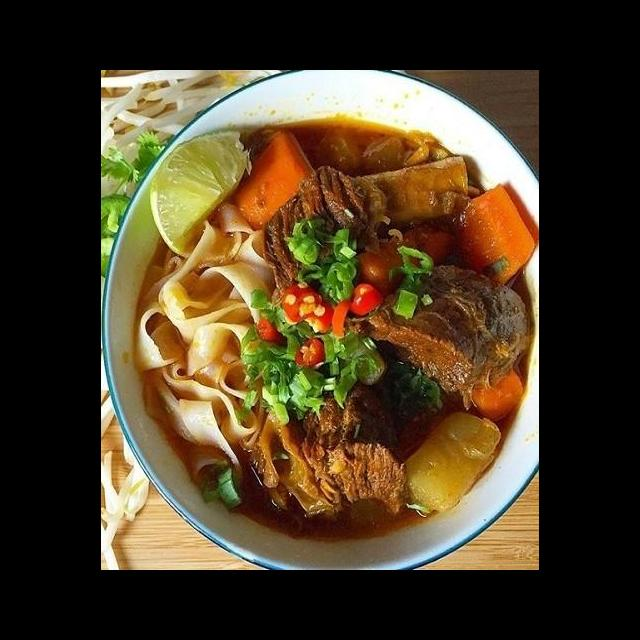banh pho: (126, 193, 291, 503)
pho bo: (114, 112, 539, 570)
thit bo: (350, 254, 539, 416), (236, 370, 420, 534), (254, 161, 393, 304)
